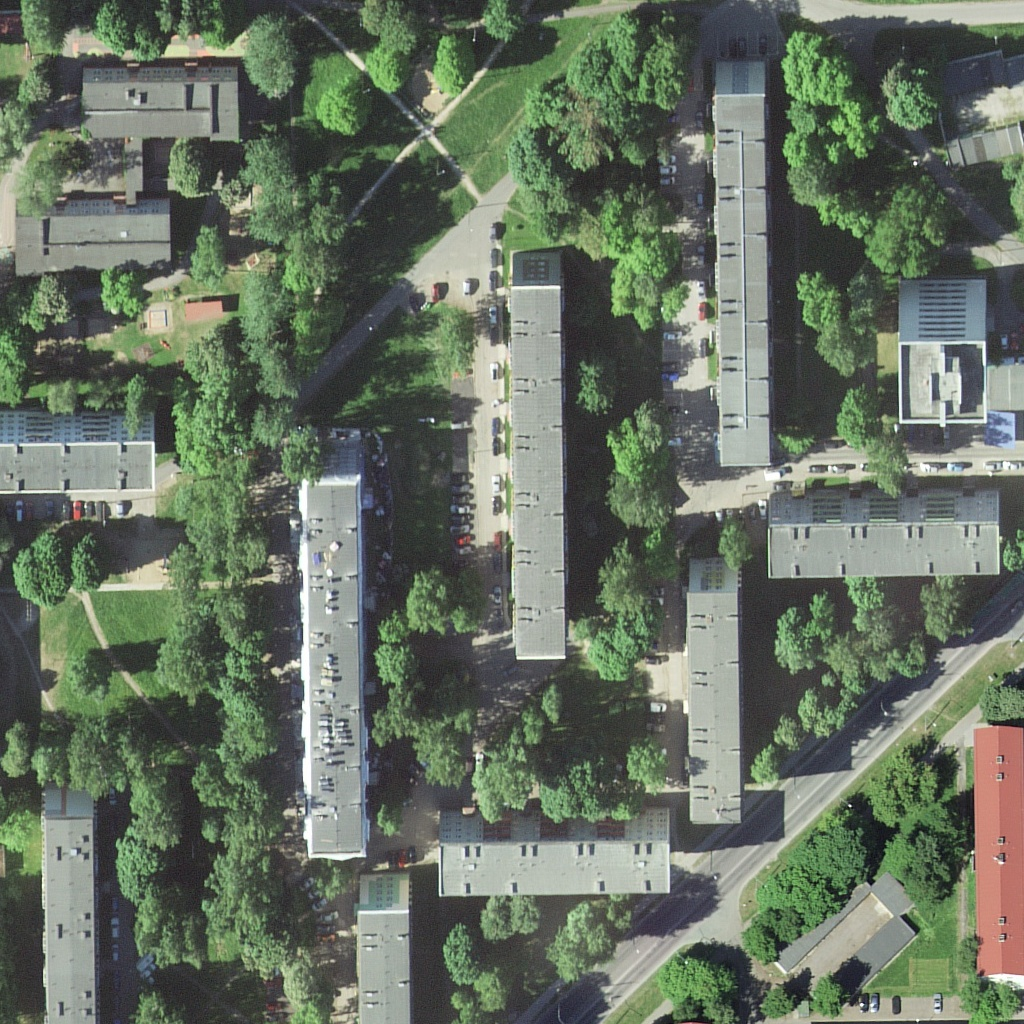building: (299, 428, 376, 863), (505, 247, 574, 663), (707, 62, 775, 477), (764, 489, 1005, 583), (442, 810, 681, 903), (37, 782, 111, 1024), (684, 558, 745, 831), (893, 271, 992, 427), (75, 61, 250, 146), (788, 885, 921, 989), (0, 413, 160, 496), (969, 716, 1016, 981), (20, 192, 174, 272), (353, 873, 425, 1024)
